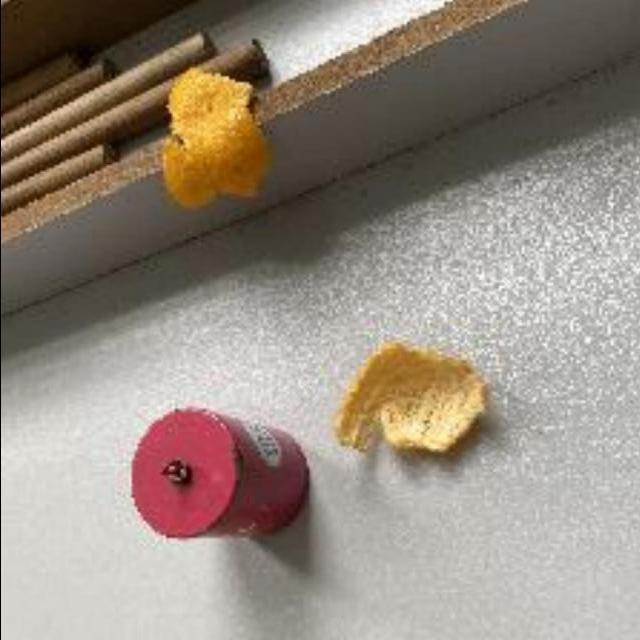orange peel: (336, 330, 488, 460), (159, 64, 278, 212)
